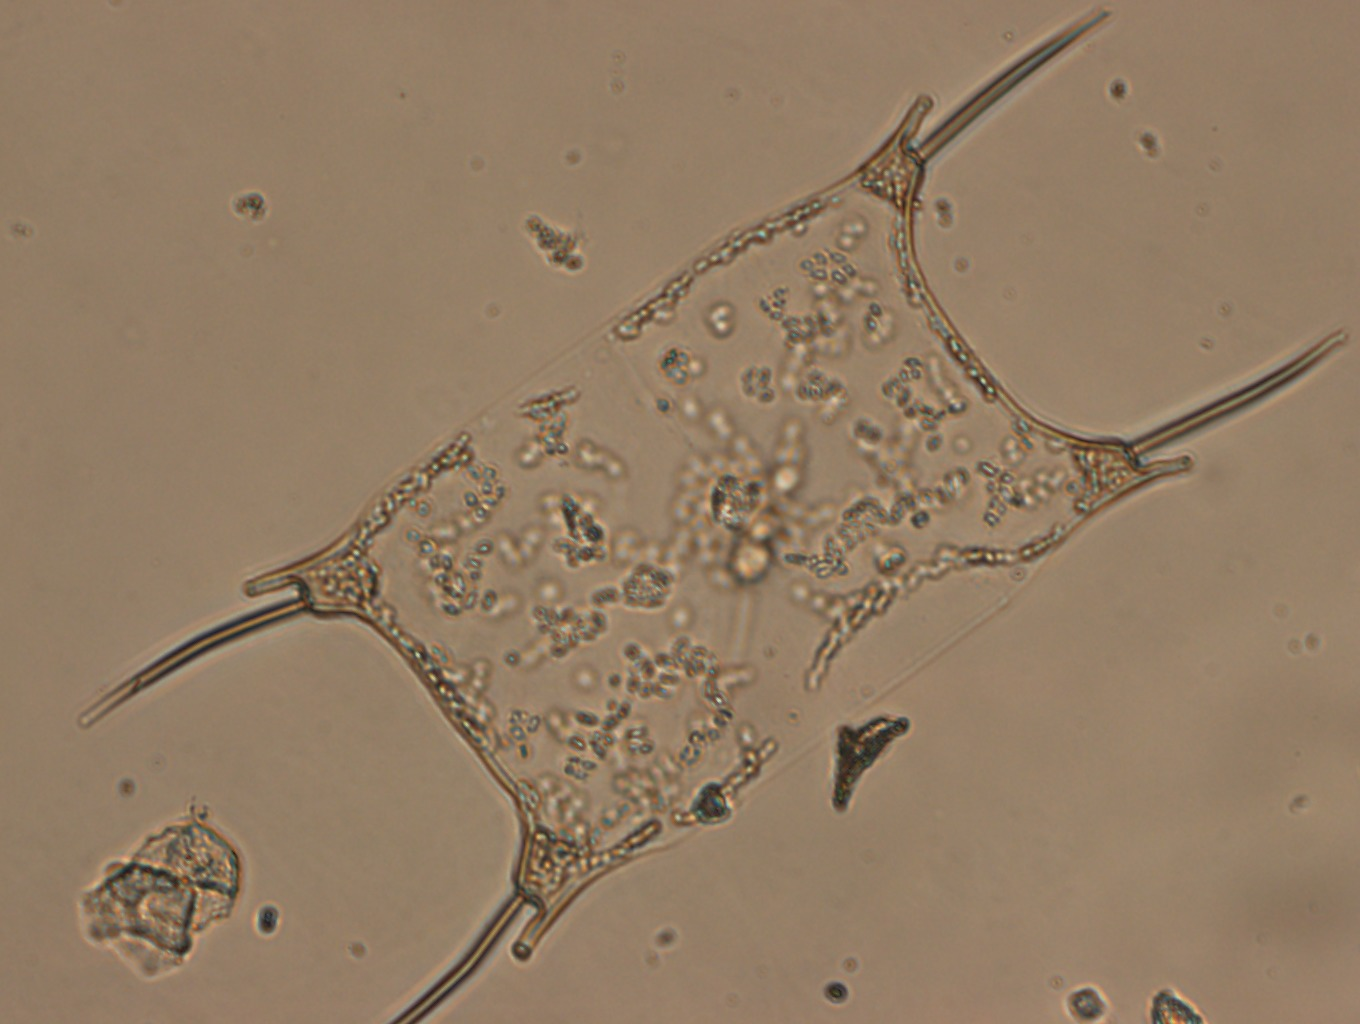biddulphia: (77, 5, 1349, 1023)
